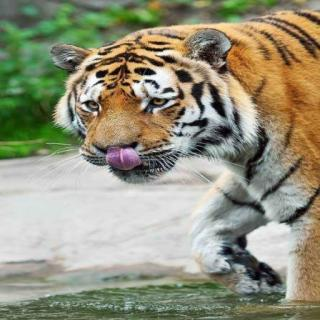Tiger: (47, 11, 320, 303)
